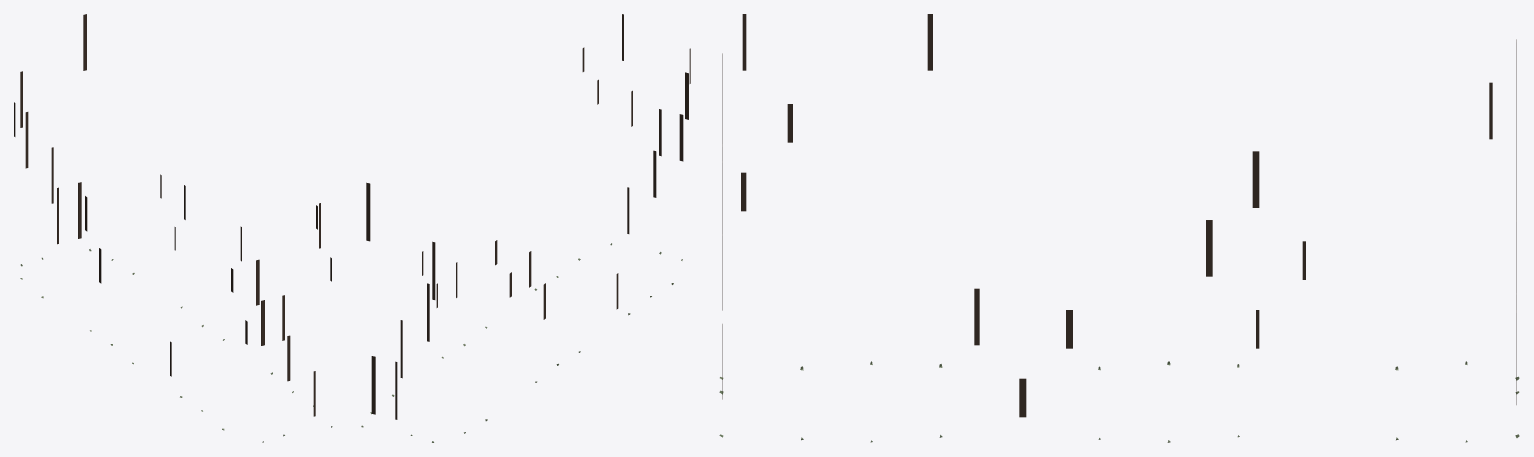
The model's file is crib_pier_28x28x6_detail2.glb.
3 renders of one model, left to right at view 1: azimuth 30°, elevation 25°; view 2: azimuth 150°, elevation 25°; view 3: azimuth 270°, elevation 25°, orthographic. The views are drawn at different scales.
Visible parts, largest first — view 1: crib_pier_28x28x6_detail2_mesh; view 2: crib_pier_28x28x6_detail2_mesh; view 3: crib_pier_28x28x6_detail2_mesh.
Part boxes in pixels (x1,y1,x2,y2): crib_pier_28x28x6_detail2_mesh: [14, 14, 332, 442]; crib_pier_28x28x6_detail2_mesh: [361, 14, 690, 442]; crib_pier_28x28x6_detail2_mesh: [719, 14, 1519, 442].
Size of the model in its own units: 6.24 by 15.29 by 28.24.
